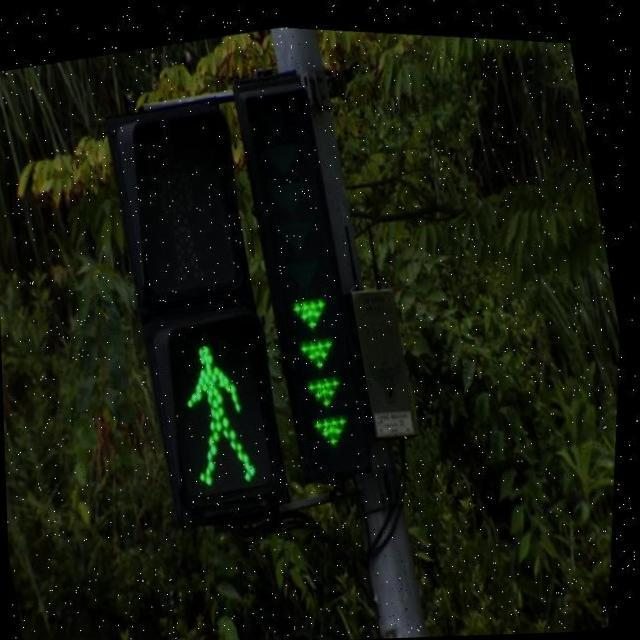greenlight: (97, 120, 279, 503)
